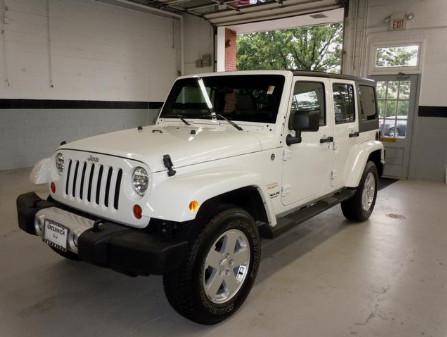jeep: (83, 151, 105, 166)
